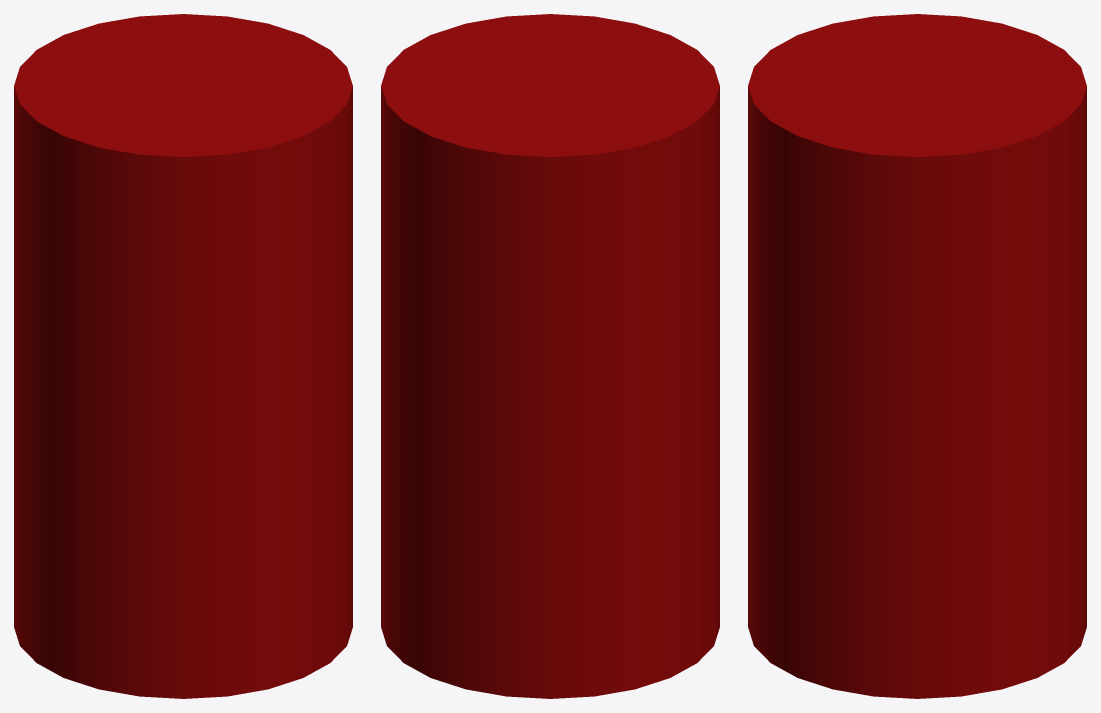
File: original-11.obj
3 renders of one model, left to right at view 1: azimuth 30°, elevation 25°; view 2: azimuth 150°, elevation 25°; view 3: azimuth 270°, elevation 25°, orthographic.
Visible parts, largest first — view 1: mesh12/mesh12-geometry#mesh12-geometry; view 2: mesh12/mesh12-geometry#mesh12-geometry; view 3: mesh12/mesh12-geometry#mesh12-geometry.
Boxes of the visible parts, <box> form: mesh12/mesh12-geometry#mesh12-geometry: <box>14,14,352,698</box>; mesh12/mesh12-geometry#mesh12-geometry: <box>381,14,719,698</box>; mesh12/mesh12-geometry#mesh12-geometry: <box>748,14,1086,698</box>.
Bounding box in the file's own units: 0.0262 × 0.0462 × 0.0262.
